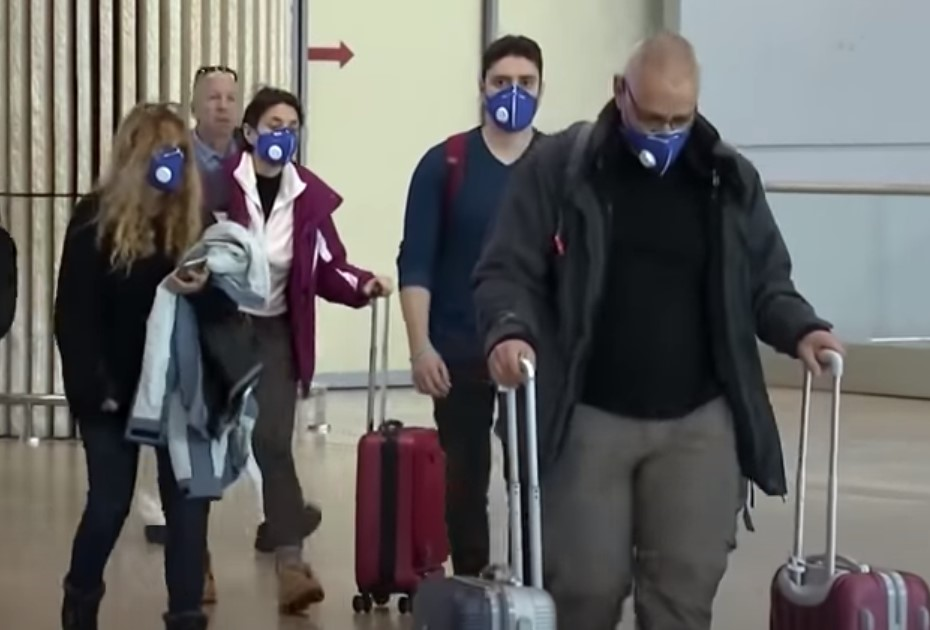face_no_mask: (189, 61, 246, 136)
face_with_mask: (611, 34, 712, 188), (107, 100, 192, 206), (478, 27, 551, 140), (237, 86, 304, 173)
